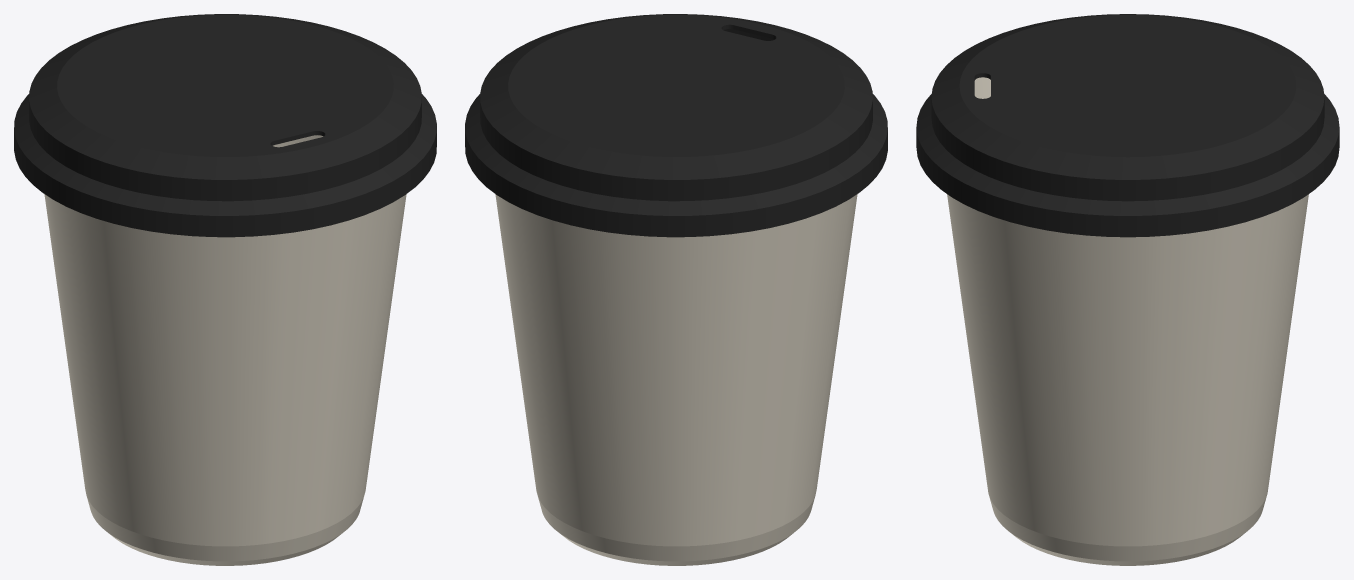
File: simready-food_beverage_coffeeCup_k01.glb
3 renders of one model, left to right at view 1: azimuth 30°, elevation 25°; view 2: azimuth 150°, elevation 25°; view 3: azimuth 270°, elevation 25°, orthographic.
Parts seen in each view (by area): view 1: paper_cup, lid_shell; view 2: paper_cup, lid_shell; view 3: paper_cup, lid_shell.
Part boxes in pixels (box(x1,y1,x2,y2)): paper_cup: box(44, 135, 406, 565); lid_shell: box(14, 14, 436, 237); paper_cup: box(495, 194, 857, 565); lid_shell: box(465, 14, 887, 237); paper_cup: box(947, 77, 1308, 565); lid_shell: box(916, 14, 1339, 237).
Size of the model in its own units: 0.0904 by 0.1006 by 0.0904.
